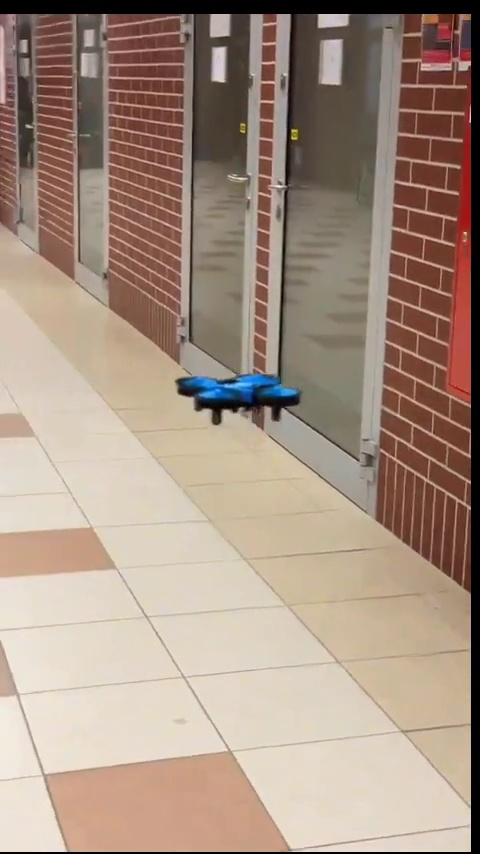drone: (172, 370, 305, 434)
